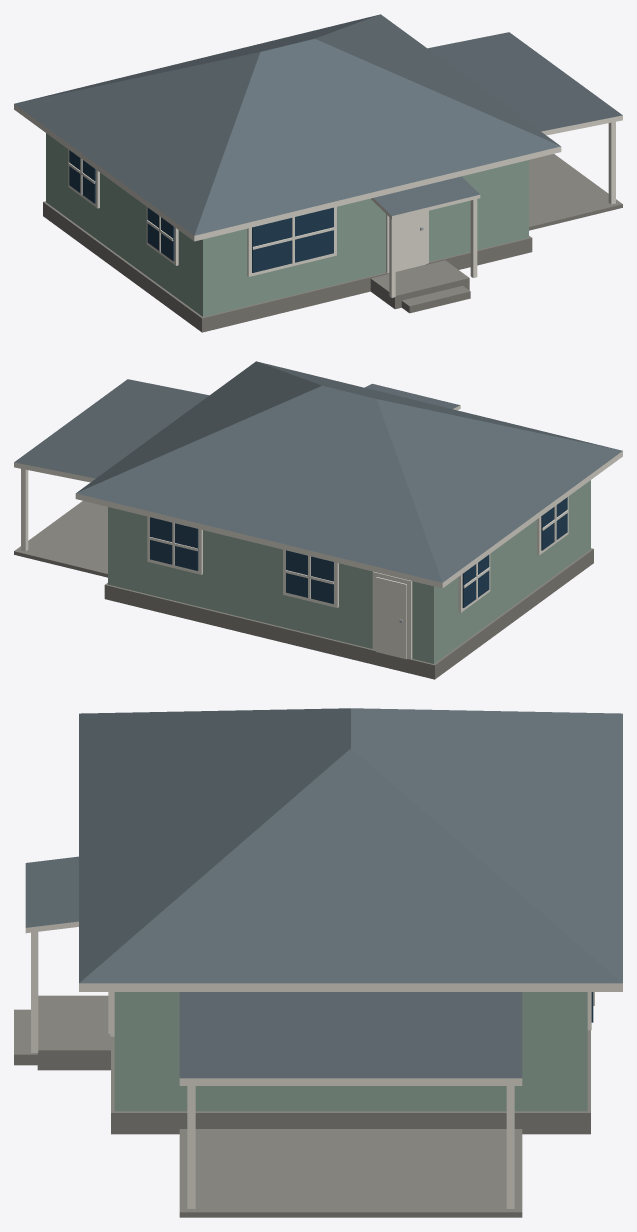
Rendered from house_hip.glb.
3 renders of one model, top to bottom at view 1: azimuth 30°, elevation 25°; view 2: azimuth 150°, elevation 25°; view 3: azimuth 270°, elevation 25°, orthographic. The views are drawn at different scales.
Parts seen in each view (by area): view 1: house_hip; view 2: house_hip; view 3: house_hip.
Part boxes in pixels (x1,y1,x2,y2): house_hip: [14, 14, 622, 332]; house_hip: [14, 361, 622, 679]; house_hip: [14, 708, 622, 1217].
Bounding box in the file's own units: 13.6 × 5.31 × 10.3.
